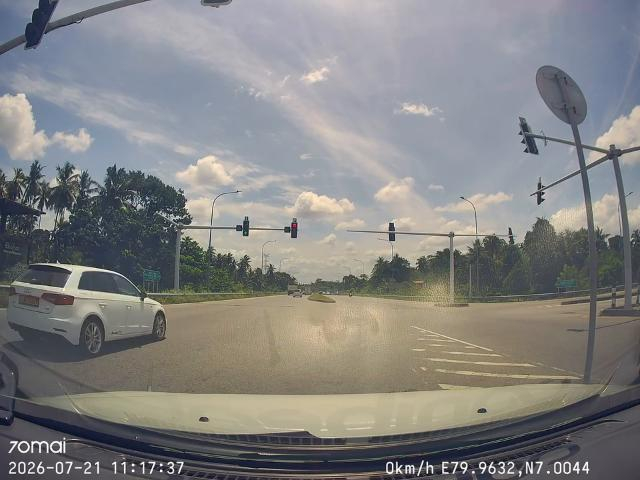illegal overtaking: (290, 214, 300, 244)
